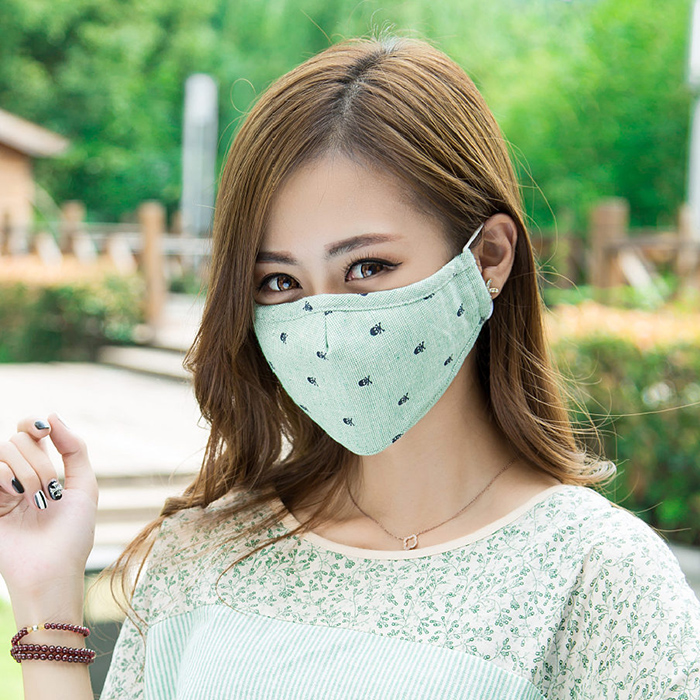face_mask: (252, 162, 461, 443)
